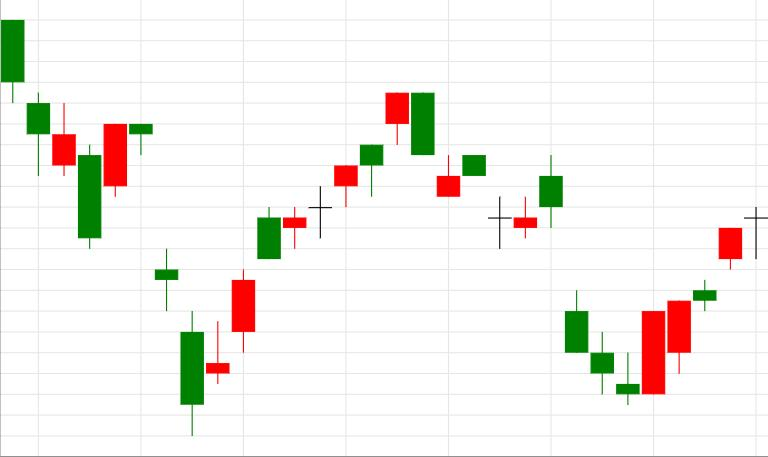bearish_engulfing_fall: (283, 92, 434, 250)
